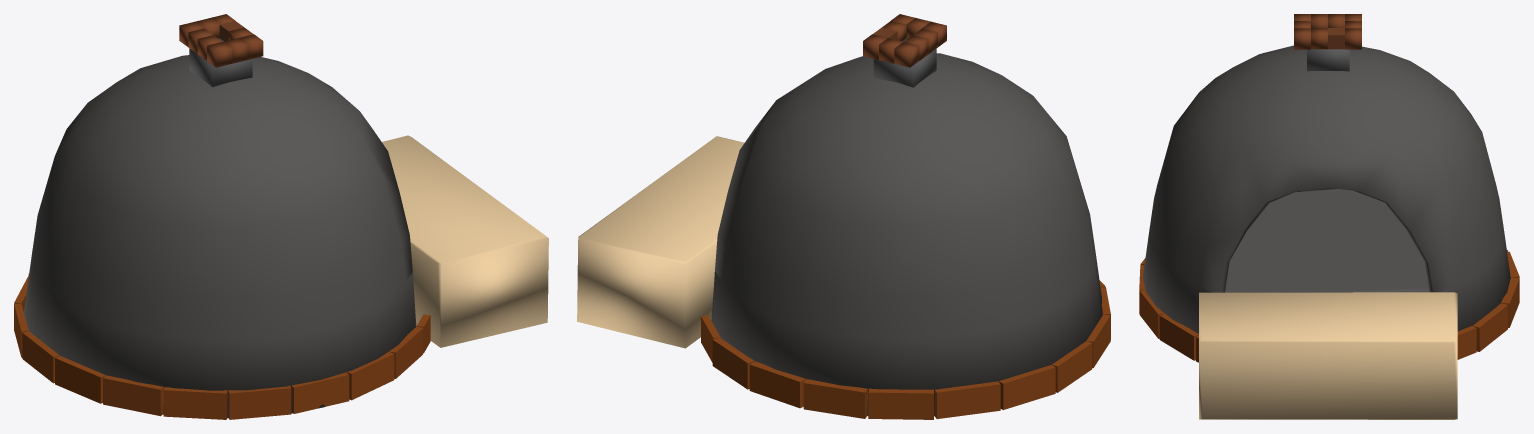
File: oven.fbx
3 renders of one model, left to right at view 1: azimuth 30°, elevation 25°; view 2: azimuth 150°, elevation 25°; view 3: azimuth 270°, elevation 25°, orthographic. The views are drawn at different scales.
Parts seen in each view (by area): view 1: Sphere.002, Cube.009, Cube.015, Cube, Cube.006; view 2: Sphere.002, Cube.009, Cube.015, Cube, Cube.003; view 3: Sphere.002, Cube.009, Cube.015, Cube, Cube.001, Cube.004, Cube.007, Cube.008.
Boxes of the visible parts, left/top/right/bottom form: Sphere.002: left=24, top=55, right=416, bottom=418; Cube.009: left=382, top=135, right=548, bottom=347; Cube.015: left=14, top=273, right=430, bottom=419; Cube: left=189, top=38, right=252, bottom=87; Cube.006: left=207, top=42, right=231, bottom=67; Sphere.002: left=711, top=53, right=1102, bottom=416; Cube.009: left=577, top=136, right=744, bottom=348; Cube.015: left=701, top=280, right=1110, bottom=419; Cube: left=873, top=38, right=936, bottom=87; Cube.003: left=894, top=42, right=919, bottom=67; Sphere.002: left=1142, top=45, right=1510, bottom=333; Cube.009: left=1199, top=292, right=1457, bottom=419; Cube.015: left=1139, top=250, right=1519, bottom=362; Cube: left=1307, top=49, right=1349, bottom=71; Cube.001: left=1345, top=28, right=1361, bottom=49; Cube.004: left=1294, top=28, right=1310, bottom=49; Cube.007: left=1311, top=28, right=1327, bottom=49; Cube.008: left=1328, top=28, right=1344, bottom=49.
Bounding box in the file's own units: 246 × 162 × 200.
